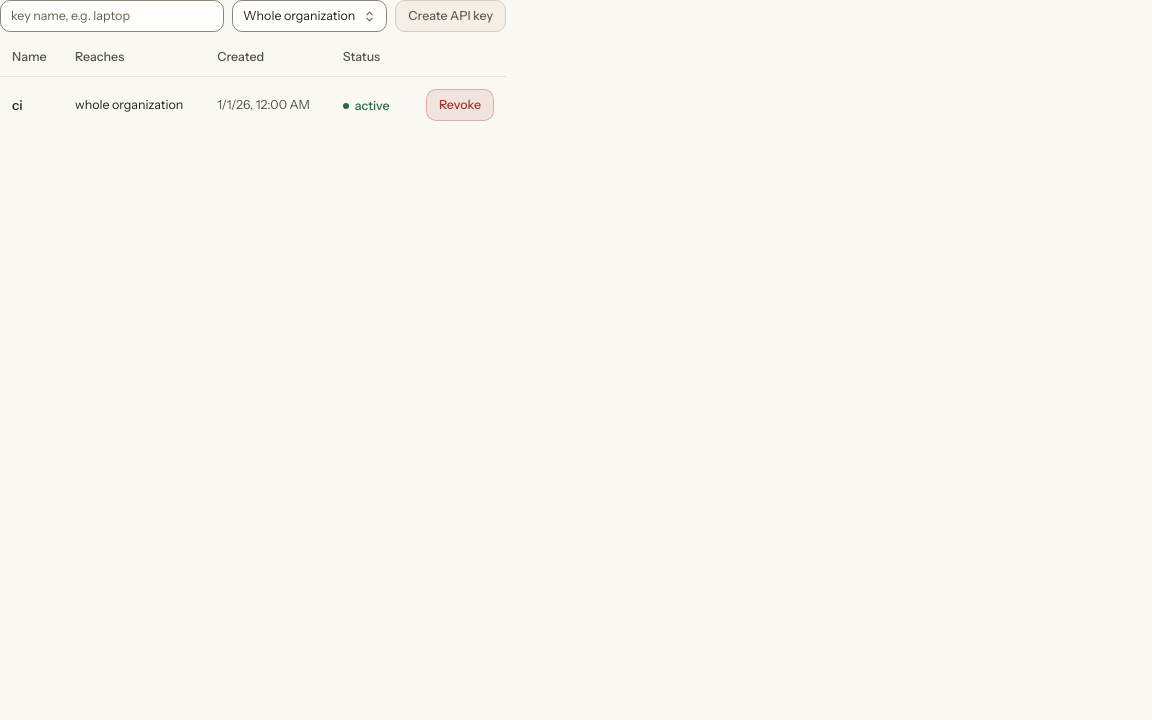
Scenario: revoking an API key › shows why a revoke failed
This screenshot has width=1152, height=720.
Step 1. Click the button "Revoke" → (460, 105), box [426,89,494,121]
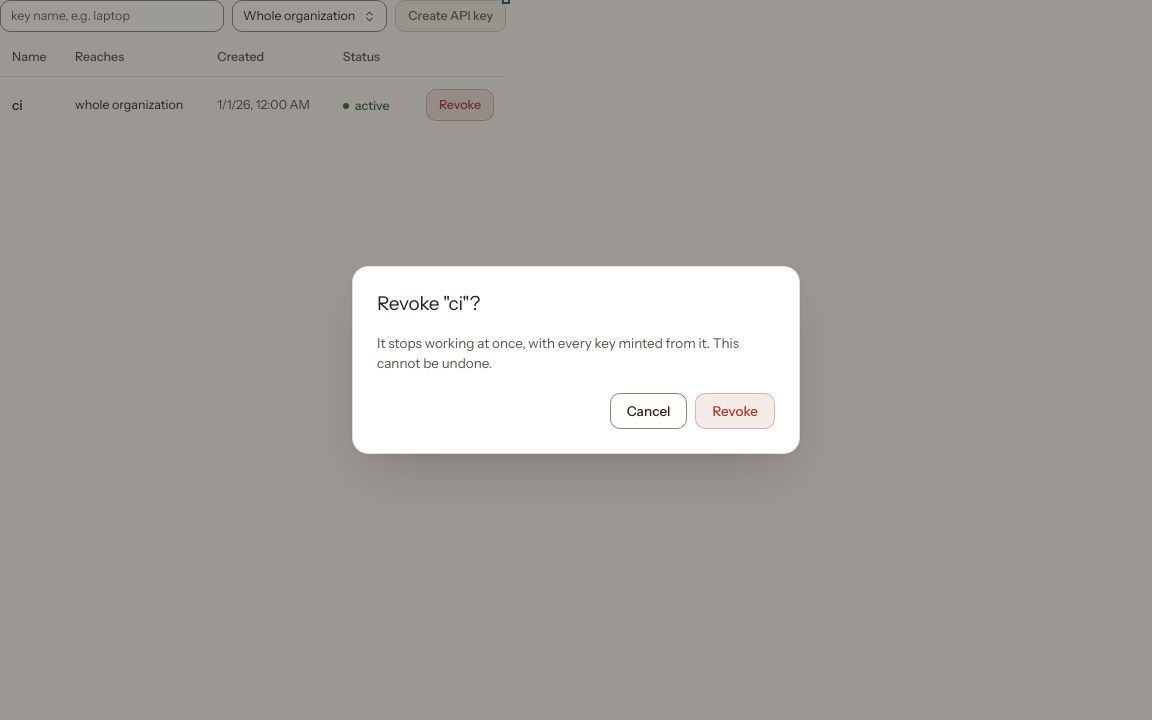
Step 2. Click the button "Revoke" → (735, 411), box [696,393,775,429]
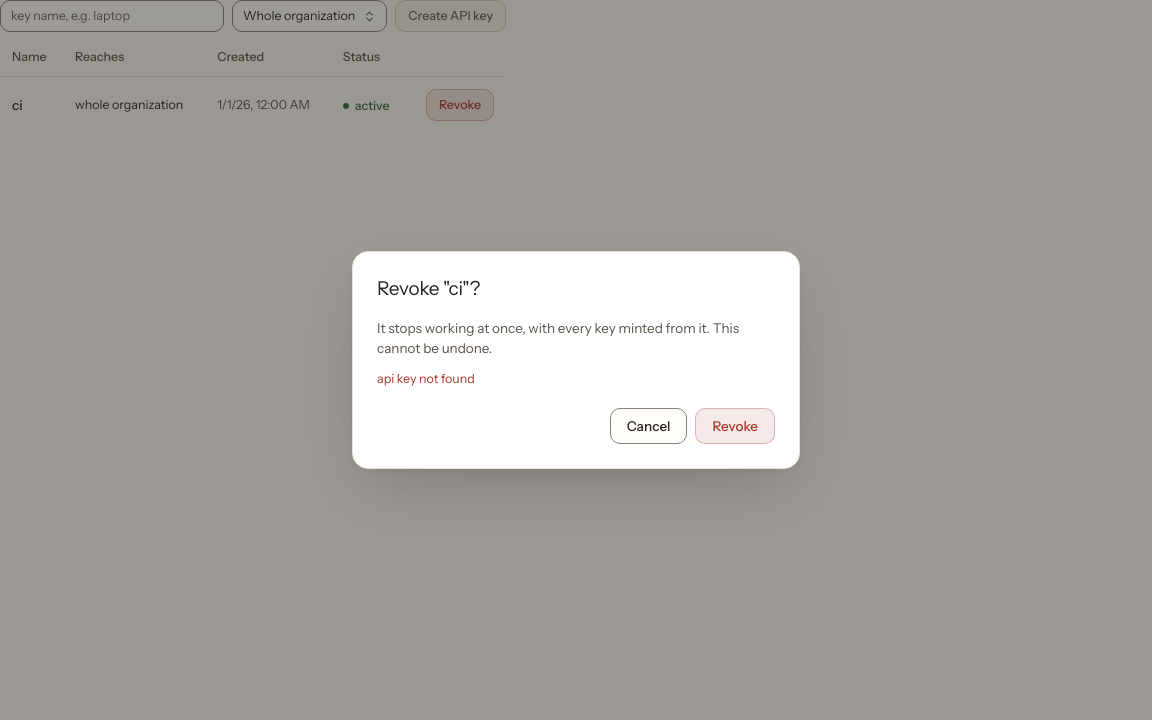
Expected: the text "api key not found" is shown, [377,371,475,386]
